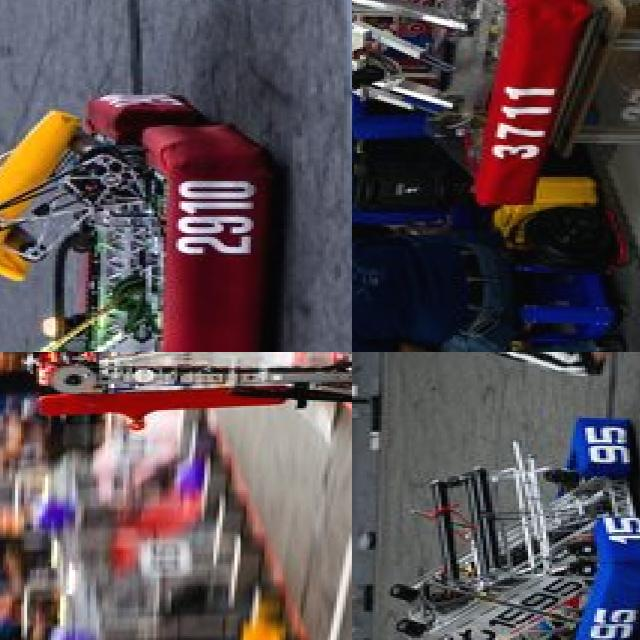FRC-Robots: (0, 81, 287, 352), (369, 405, 640, 640), (352, 0, 593, 221), (23, 352, 352, 447)
